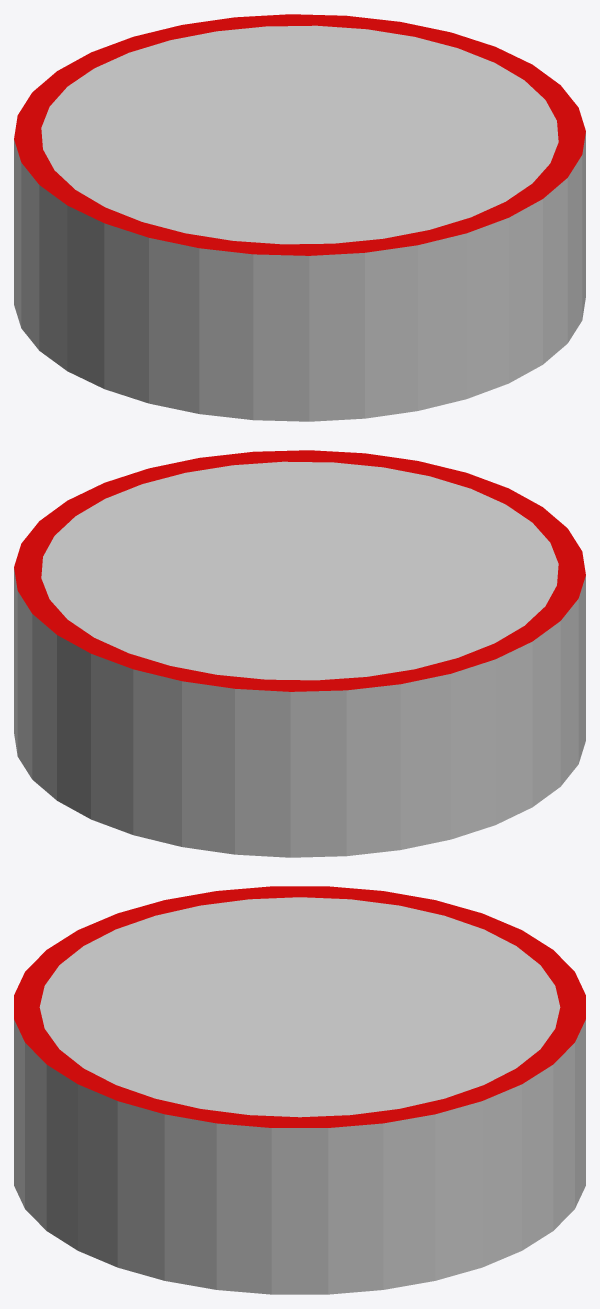
File: platform_flat.fbx
3 views of the same model, one above another, from view 1: azimuth 30°, elevation 25°; view 2: azimuth 150°, elevation 25°; view 3: azimuth 270°, elevation 25° (orthographic).
Parts seen in each view (by area): view 1: Cylinder.003; view 2: Cylinder.003; view 3: Cylinder.003.
Boxes of the visible parts, bbox=[...] form: Cylinder.003: bbox=[14, 14, 585, 421]; Cylinder.003: bbox=[14, 450, 585, 857]; Cylinder.003: bbox=[14, 886, 585, 1294].
Bounding box in the file's own units: 50.1 × 16.1 × 50.1.
